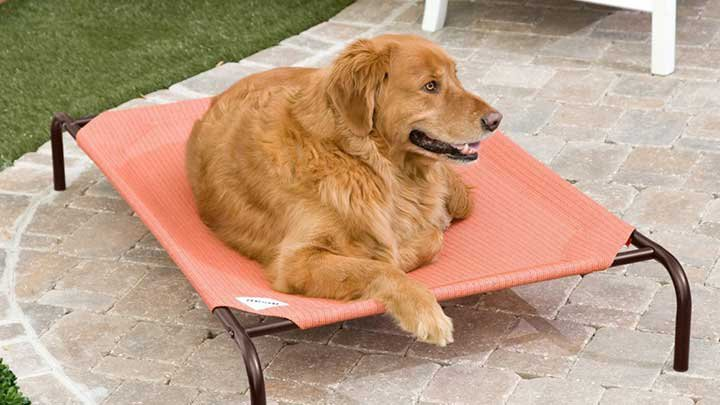dog: (193, 16, 518, 350)
